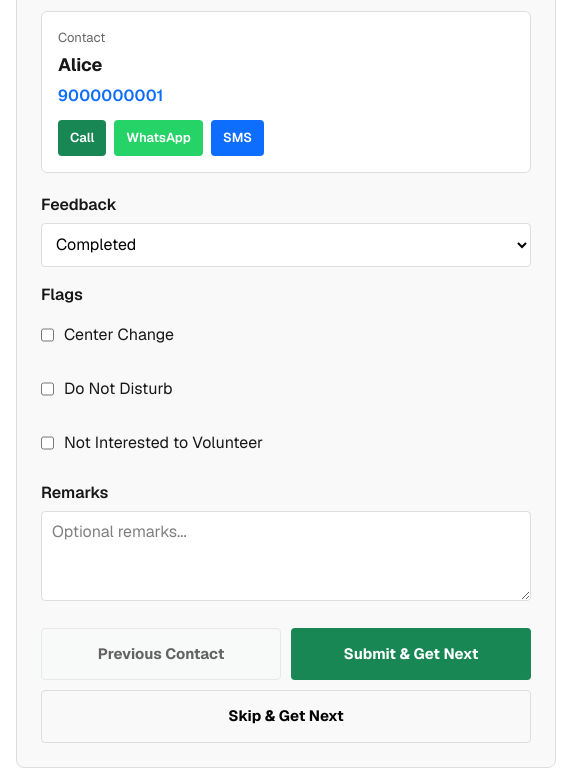
Scenario: CampaignCallScreen — done state › shows skipped-mode done message when mode is skipped
This screenshot has width=573, height=768.
(page scrolled)
Click the button "Submit & Get Next".
click(411, 654)  # box [291, 628, 531, 680]
(page scrolled)
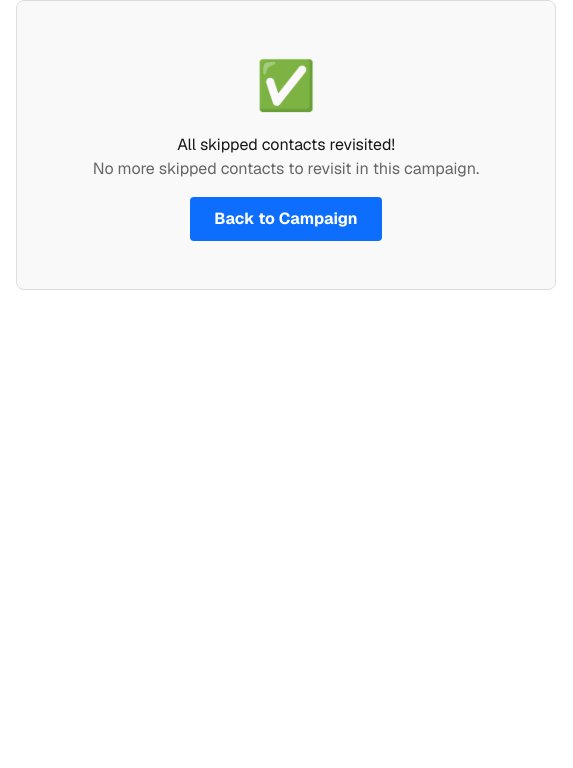
Result: the heading "All skipped contacts revisited!" is shown at [177, 134, 395, 155]
